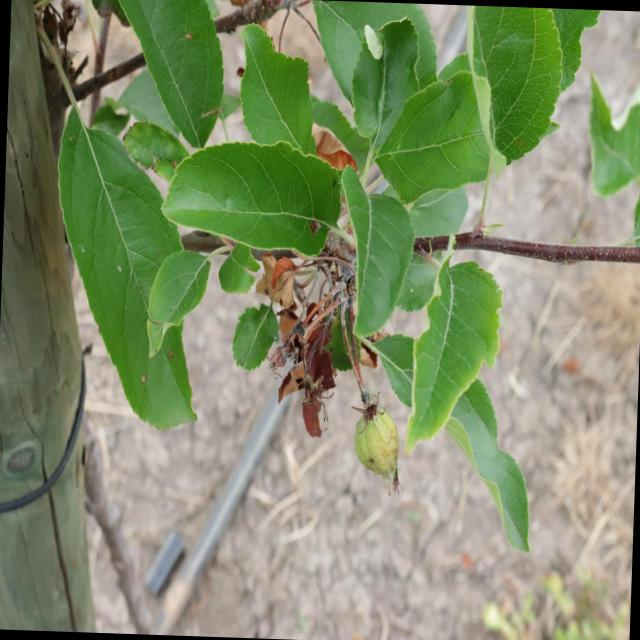-FireBlight-: (255, 254, 344, 435)
